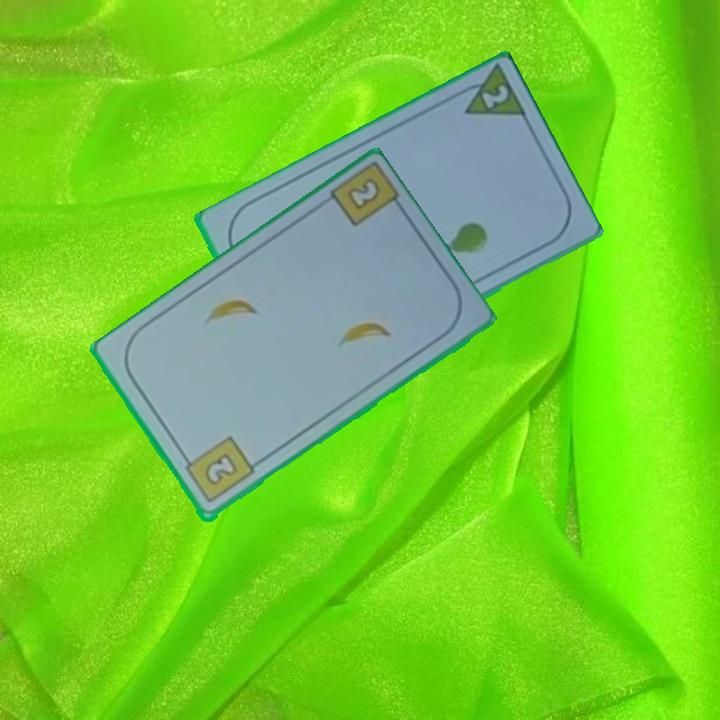2b: (179, 433, 257, 507), (346, 177, 380, 210)
2p: (449, 64, 530, 124)
